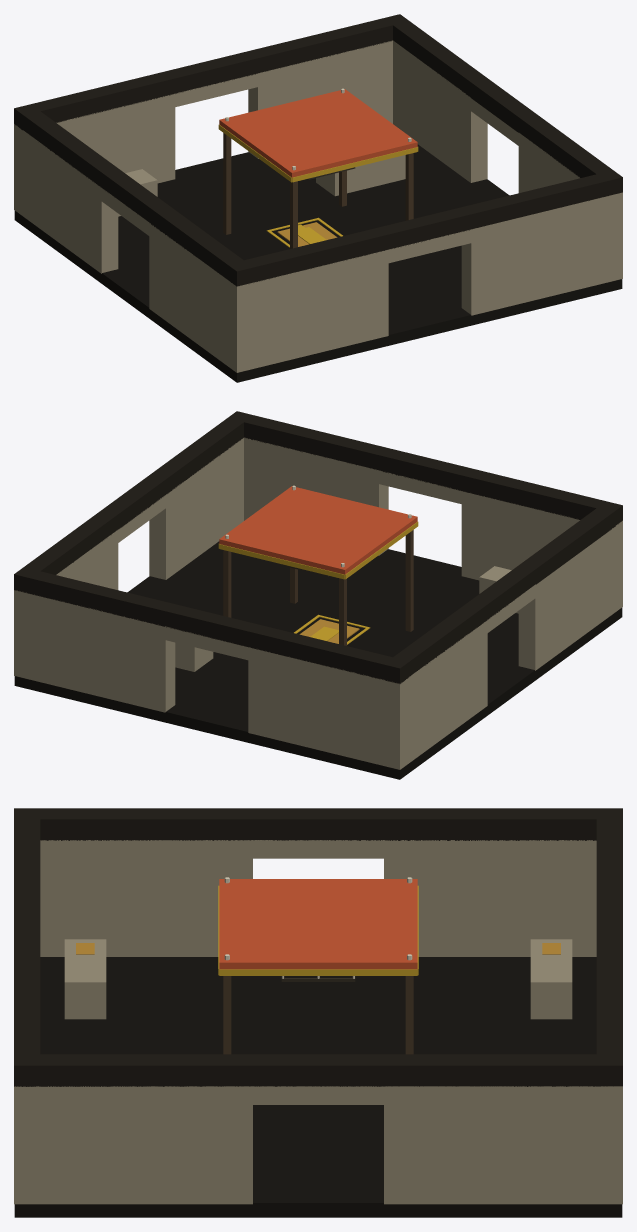
The model's file is LateEffigyCrypt.fbx.
The picture shows the model from 3 angles, top to bottom: view 1: azimuth 30°, elevation 25°; view 2: azimuth 150°, elevation 25°; view 3: azimuth 270°, elevation 25°; orthographic projection. The views are drawn at different scales.
Parts seen in each view (by area): view 1: LateEffigyCrypt; view 2: LateEffigyCrypt; view 3: LateEffigyCrypt.
Boxes of the visible parts, box(x1,y1,x2,y2) form: LateEffigyCrypt: box(14, 14, 622, 382); LateEffigyCrypt: box(14, 411, 622, 779); LateEffigyCrypt: box(14, 808, 622, 1217).
Size of the model in its own units: 1202 by 376 by 1202.
Materials: 10 (10 with a texture image).
